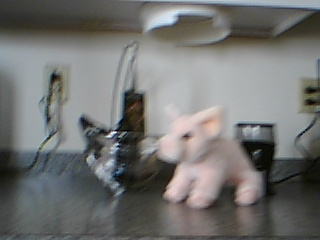piggy: (154, 103, 266, 210)
